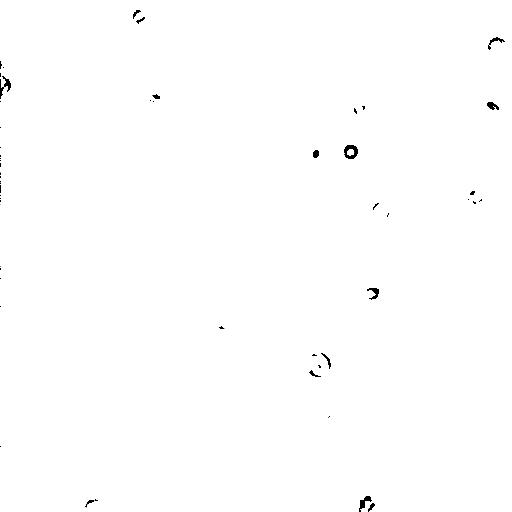micro-algae: (329, 251, 368, 283), (302, 349, 332, 381), (301, 139, 327, 170), (368, 198, 393, 225), (485, 35, 511, 59), (354, 494, 392, 510), (482, 95, 507, 118), (1, 64, 15, 100), (360, 284, 384, 303), (77, 123, 99, 143), (128, 5, 147, 27), (342, 140, 361, 162), (466, 185, 484, 205), (81, 498, 104, 511), (351, 100, 366, 117), (359, 493, 372, 511), (259, 0, 282, 10), (1, 74, 9, 92)
